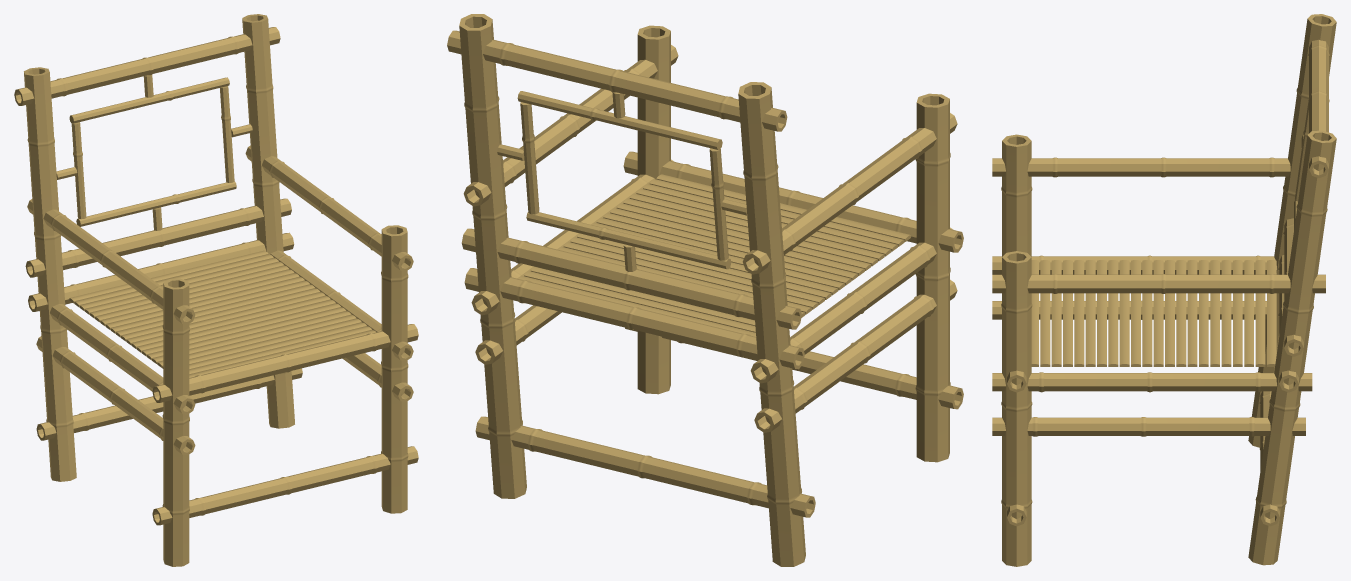
File: ghe_tre_banh_khung.mid.glb
3 renders of one model, left to right at view 1: azimuth 30°, elevation 25°; view 2: azimuth 150°, elevation 25°; view 3: azimuth 270°, elevation 25°, orthographic. The views are drawn at different scales.
Visible parts, largest first — view 1: ghe_tre_banh_khung; view 2: ghe_tre_banh_khung; view 3: ghe_tre_banh_khung.
Boxes of the visible parts, x1,y1,x2,y2 form: ghe_tre_banh_khung: (14,14,418,566); ghe_tre_banh_khung: (447,14,963,566); ghe_tre_banh_khung: (992,14,1336,566).
Bounding box in the file's own units: 0.66 × 0.9538 × 0.6998.
